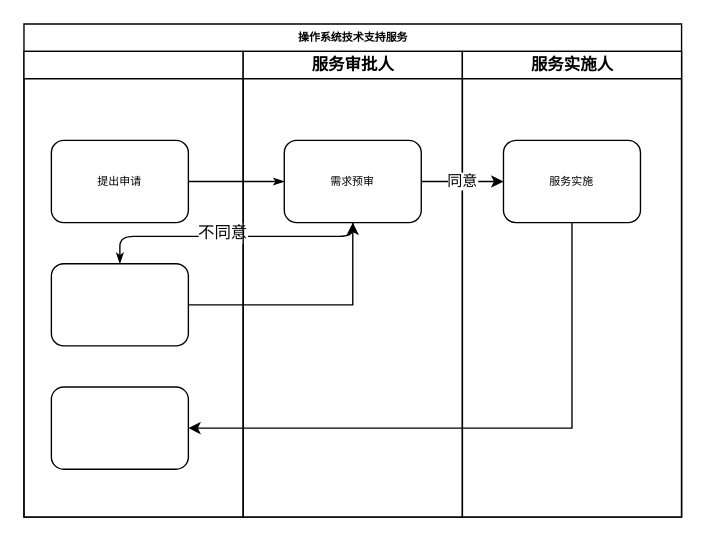
This 706x541 diagram has some shape labels left out. Here are the shapes that lost their labels. From the top down, the box of each, then its label:
(23, 50, 243, 517): 申请人
(50, 262, 188, 346): 修改需求
(50, 386, 188, 469): 完结
